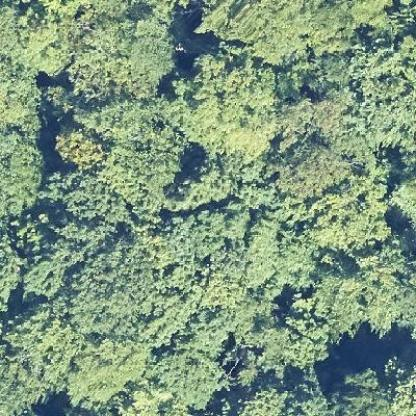tree-top: (163, 45, 284, 161), (265, 100, 351, 201), (55, 328, 157, 406), (317, 250, 403, 330), (304, 176, 392, 252), (153, 338, 233, 411)
